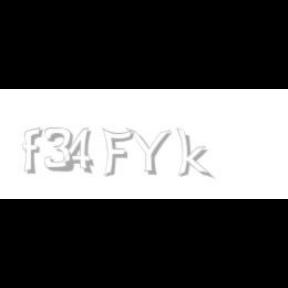3: (44, 128, 76, 172)
4: (64, 128, 94, 174)
F: (101, 128, 133, 178)
Y: (125, 128, 171, 176)
f: (22, 128, 46, 174)
k: (176, 128, 214, 180)
